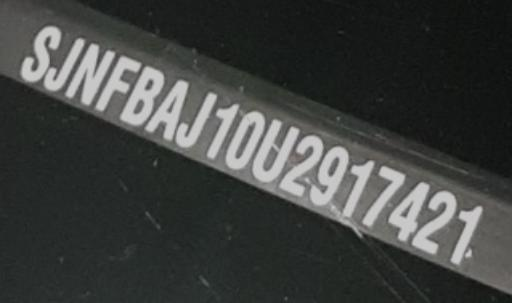letter: (67, 43, 113, 103), (253, 120, 299, 179), (362, 164, 406, 224), (18, 23, 62, 82), (120, 65, 164, 122), (282, 135, 324, 194), (308, 146, 350, 205), (95, 56, 139, 112), (175, 91, 219, 147), (414, 190, 454, 250), (148, 79, 188, 139), (390, 181, 430, 240), (44, 37, 86, 91), (226, 110, 264, 169), (450, 205, 486, 262), (204, 102, 240, 159), (342, 156, 376, 215)
